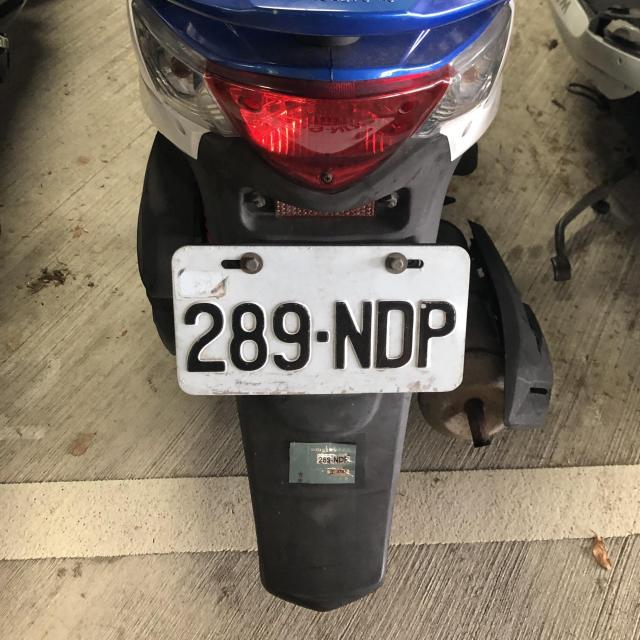W: (168, 234, 468, 398)
